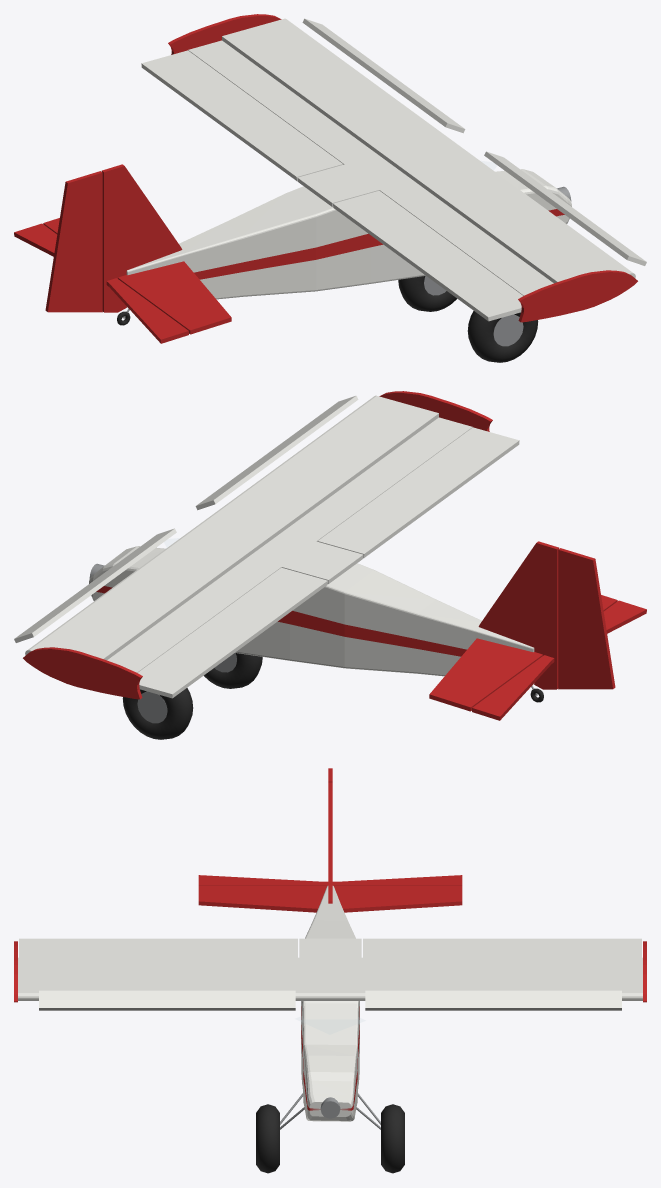
File: buschtrottel-highlander.glb
3 views of the same model, one above another, from view 1: azimuth 30°, elevation 25°; view 2: azimuth 150°, elevation 25°; view 3: azimuth 270°, elevation 25° (orthographic). The views are drawn at different scales.
Parts seen in each view (by area): view 1: group7, group13, body, tail, aileron_L, aileron_R, rudder, wheel_R, elevator, wheel_L; view 2: group13, group7, body, tail, aileron_R, aileron_L, rudder, wheel_L, elevator, wheel_R; view 3: group7, group13, body, tail, aileron_R, aileron_L, elevator, wheel_L, wheel_R.
Boxes of the visible parts, x1,y1,x2,y2 form: group7: [315, 146, 646, 322]; group13: [168, 14, 465, 193]; body: [126, 161, 571, 307]; tail: [43, 164, 231, 334]; aileron_L: [141, 50, 343, 180]; aileron_R: [333, 190, 522, 321]; rudder: [45, 171, 102, 312]; wheel_R: [467, 311, 538, 362]; elevator: [14, 223, 188, 343]; wheel_L: [398, 276, 456, 311]; group13: [14, 523, 345, 699]; group7: [195, 391, 492, 570]; body: [89, 538, 534, 684]; tail: [429, 541, 617, 711]; aileron_R: [317, 427, 519, 557]; aileron_L: [138, 567, 327, 698]; rudder: [558, 548, 615, 689]; wheel_L: [122, 688, 193, 739]; elevator: [472, 600, 646, 720]; wheel_R: [204, 653, 262, 688]; group7: [14, 938, 330, 1010]; group13: [330, 938, 646, 1010]; body: [296, 886, 364, 1121]; tail: [198, 782, 462, 912]; aileron_R: [19, 938, 297, 957]; aileron_L: [363, 938, 641, 957]; elevator: [198, 875, 462, 885]; wheel_L: [381, 1104, 404, 1173]; wheel_R: [256, 1104, 279, 1173].
Size of the model in its own units: 0.776 by 0.364 by 0.912.
